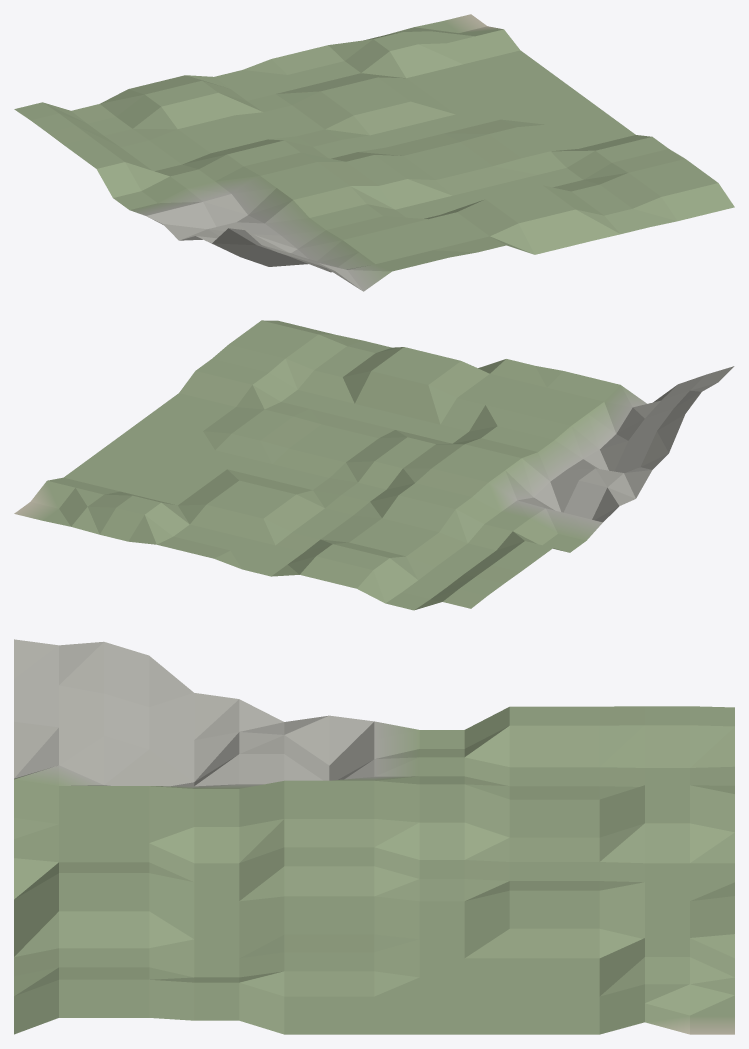
3 views of the same model, one above another, from view 1: azimuth 30°, elevation 25°; view 2: azimuth 150°, elevation 25°; view 3: azimuth 270°, elevation 25° (orthographic). The views are drawn at different scales.
Bounding box in the file's own units: 32 × 5.25 × 32.
